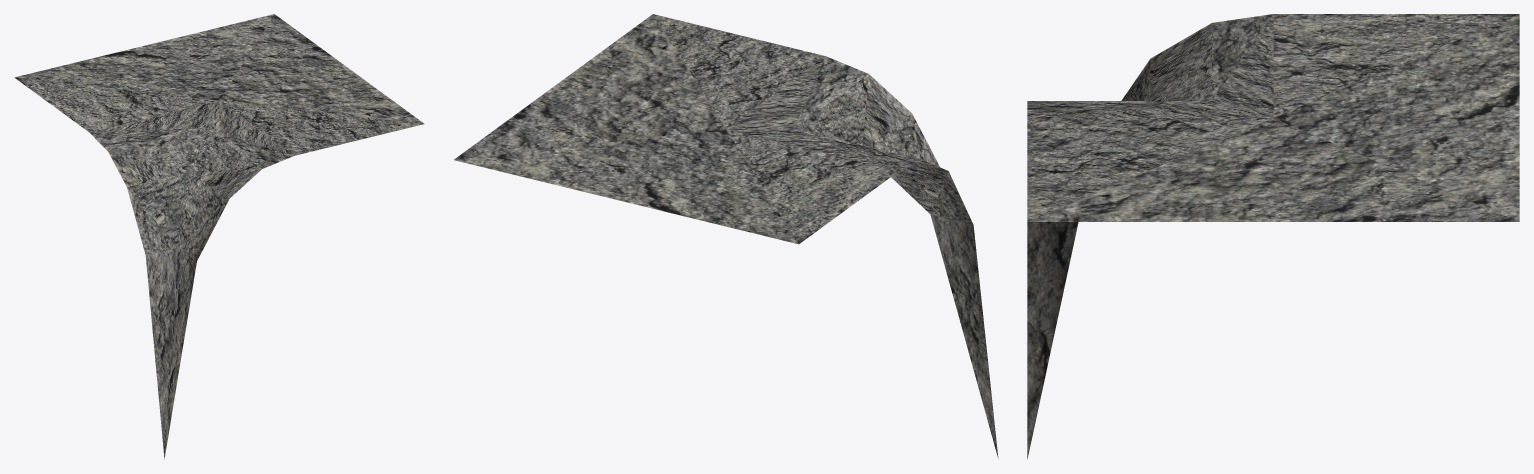
Rendered from Stone4e.obj.
3 views of the same model, side by side, from view 1: azimuth 30°, elevation 25°; view 2: azimuth 150°, elevation 25°; view 3: azimuth 270°, elevation 25° (orthographic). The views are drawn at different scales.
Visible parts, largest first — view 1: Grid_Grid.014_Grid_Grid.035; view 2: Grid_Grid.014_Grid_Grid.035; view 3: Grid_Grid.014_Grid_Grid.035.
Part boxes in pixels (x1=…): Grid_Grid.014_Grid_Grid.035: x1=14, y1=14, x2=424, y2=459; Grid_Grid.014_Grid_Grid.035: x1=454, y1=14, x2=998, y2=458; Grid_Grid.014_Grid_Grid.035: x1=1027, y1=14, x2=1519, y2=459.
Size of the model in its own units: 1 by 1 by 1.
Materials: 1 (1 with a texture image).
